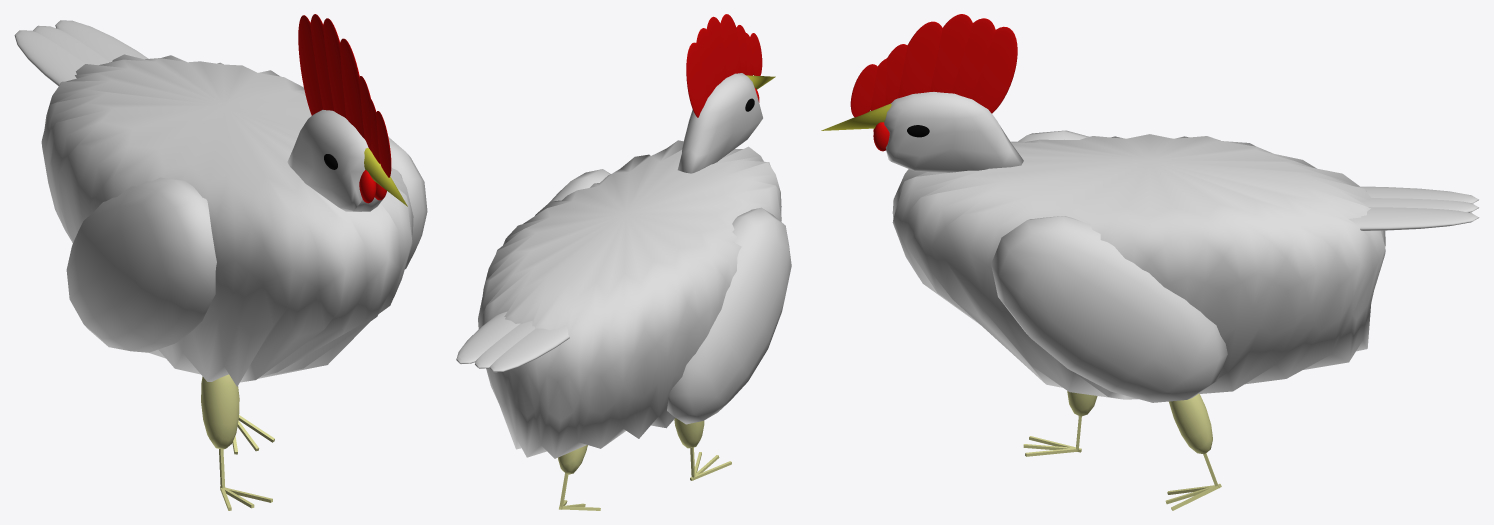
Rendered from Niwatori0117.fbx.
3 renders of one model, left to right at view 1: azimuth 30°, elevation 25°; view 2: azimuth 150°, elevation 25°; view 3: azimuth 270°, elevation 25°, orthographic. The views are drawn at different scales.
Parts seen in each view (by area): view 1: body1; view 2: body1; view 3: body1.
Part boxes in pixels (x1,y1,x2,y2): body1: (14,14,427,510); body1: (456,14,791,510); body1: (821,14,1479,510).
Size of the model in its own units: 7.76 by 13.3 by 16.85.
